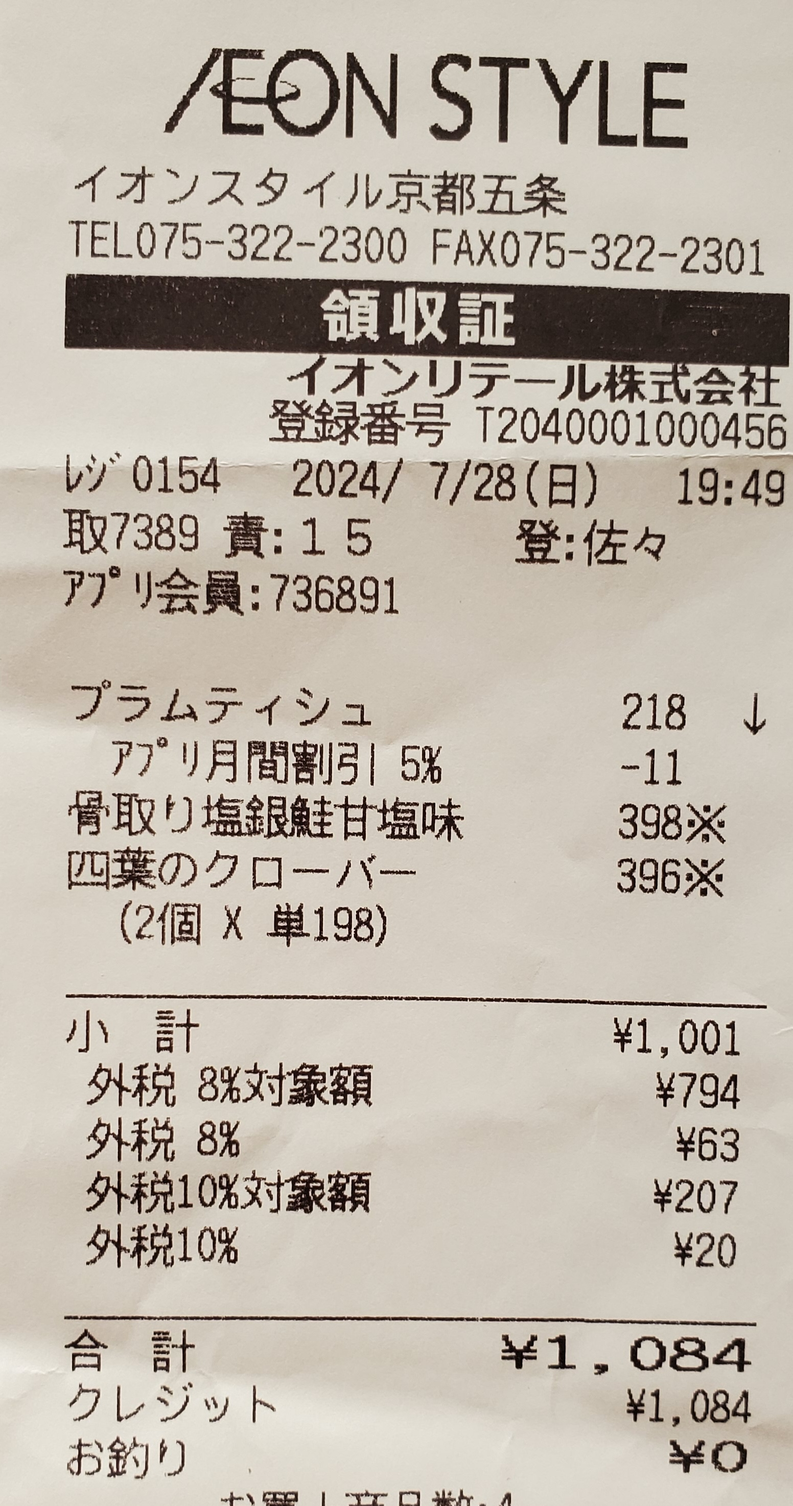Date: (291, 451, 526, 509)
Shopname: (153, 22, 719, 149)
Telnum: (133, 214, 417, 267)
Totalpay: (60, 1331, 760, 1378)
